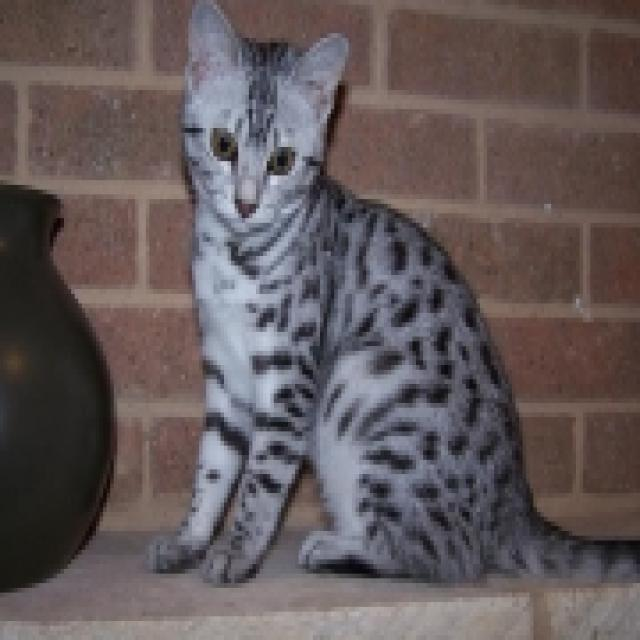Egyptian Mau: (138, 0, 640, 592)
